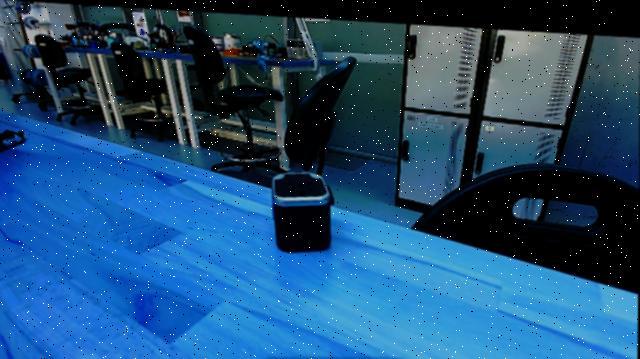adapter: (265, 165, 337, 257)
